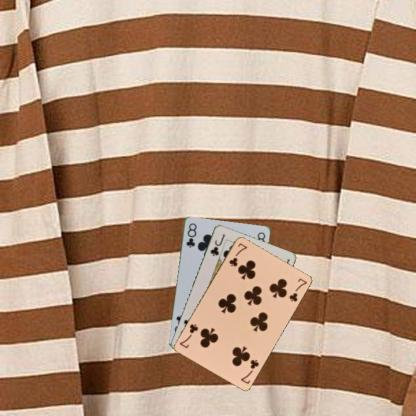7c: (226, 240, 249, 268), (238, 356, 260, 385)
8c: (184, 220, 198, 249)
Jc: (207, 231, 226, 257)
